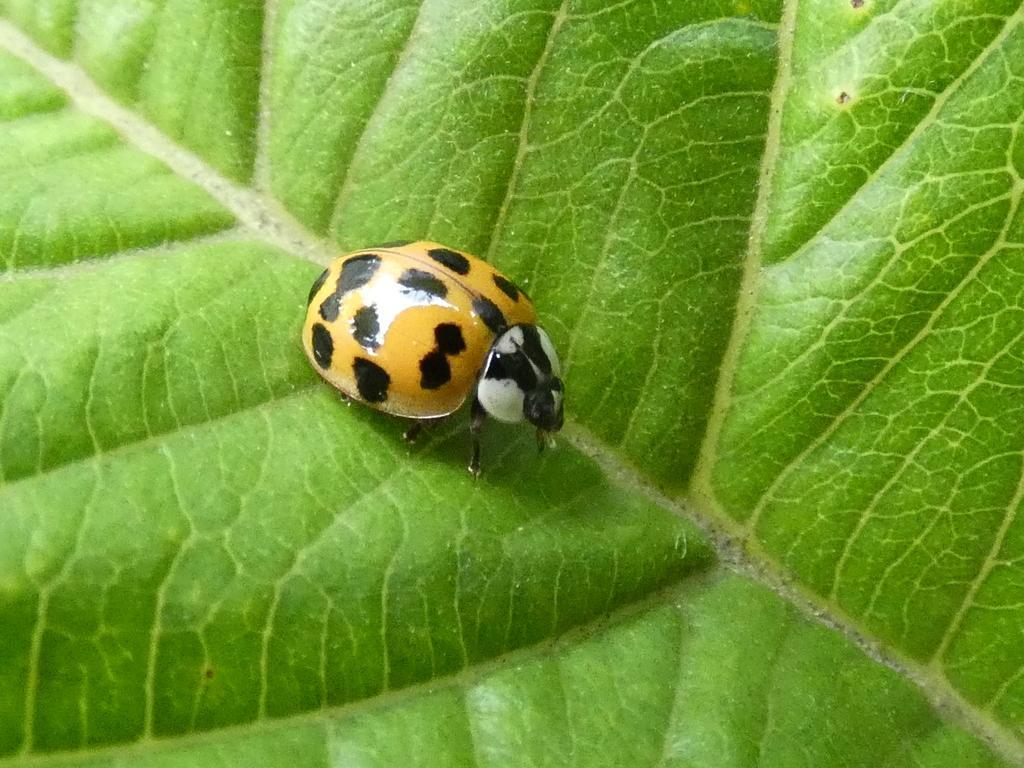ladybug: (299, 237, 571, 483)
